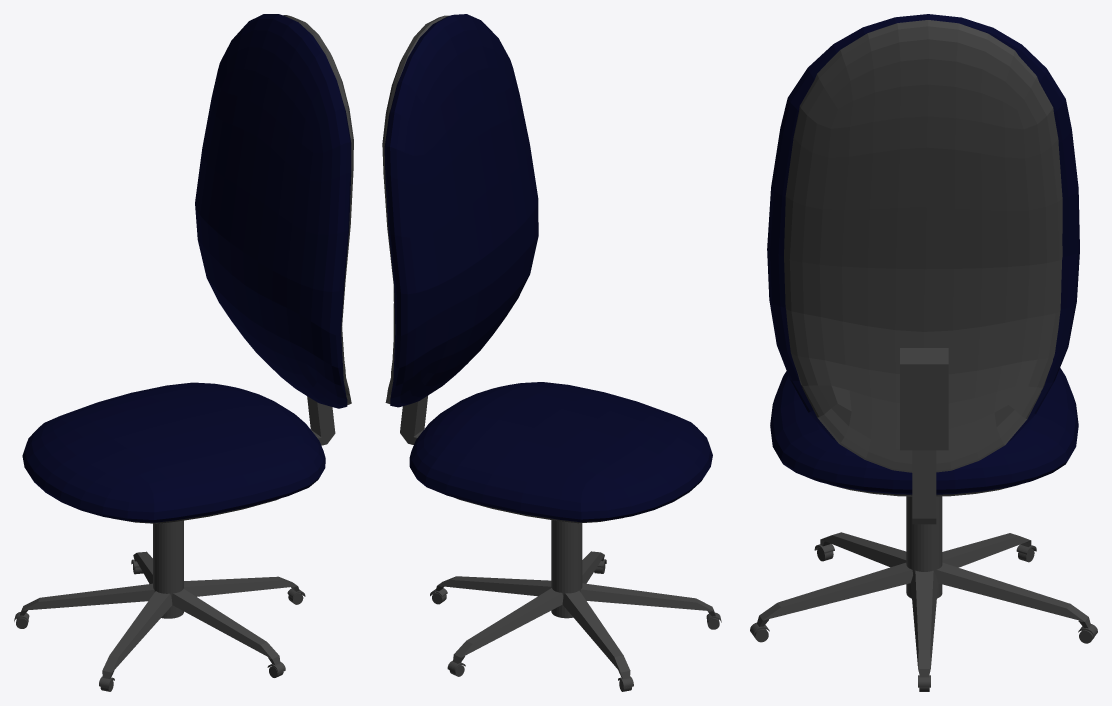
The model's file is room_chair.fbx.
3 views of the same model, side by side, from view 1: azimuth 30°, elevation 25°; view 2: azimuth 150°, elevation 25°; view 3: azimuth 270°, elevation 25° (orthographic). The views are drawn at different scales.
Visible parts, largest first — view 1: Stoff; view 2: Stoff; view 3: Stoff.
Part boxes in pixels (<box>): Stoff: <box>14,14,353,691</box>; Stoff: <box>382,14,721,691</box>; Stoff: <box>750,14,1097,691</box>.
Bounding box in the file's own units: 102 × 198 × 92.02.
